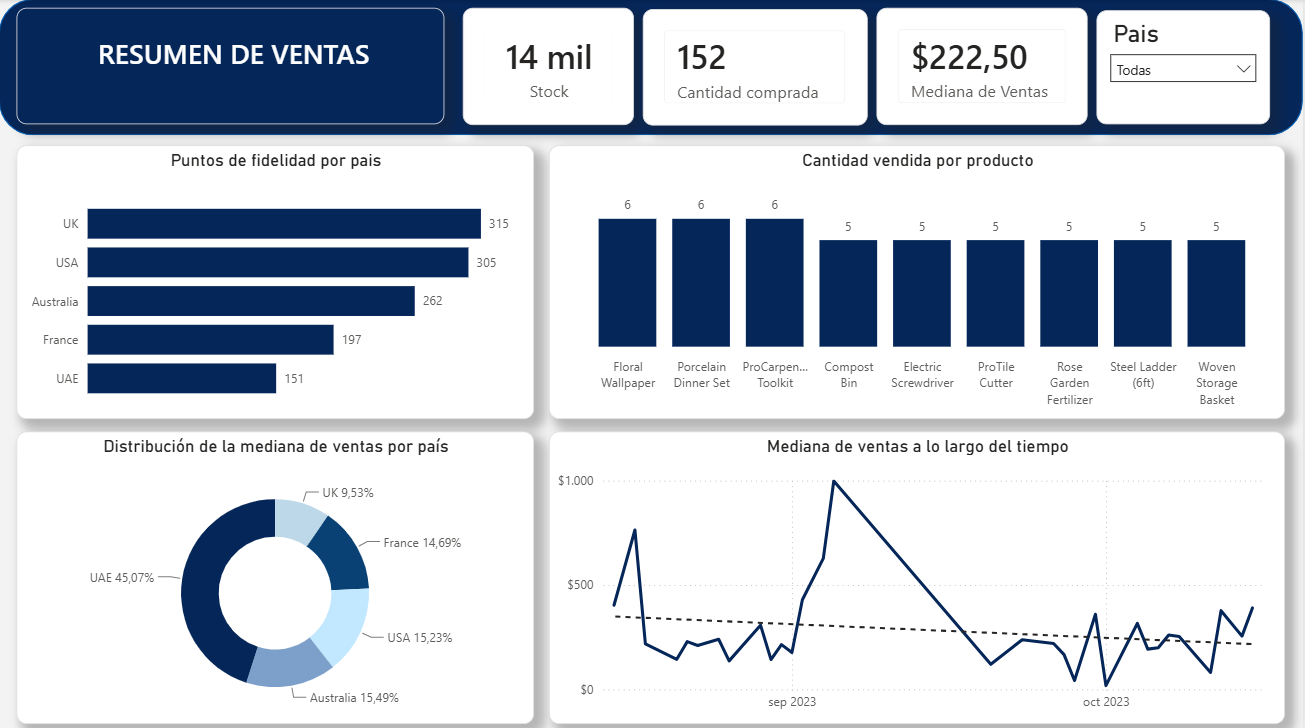

What the dashboard file says about the page in this screenshot:
{"tool":"powerbi","page":{"name":"Resumen de ventas","canvas":[1280,720],"ordinal":0},"visuals":[{"type":"clusteredBarChart","title":"Puntos de fidelidad por pais","fields":{"Category":["Sales in USD.Country Name"],"Y":["Sum(Sales in USD. Loyalty Points)"]},"box":[17.2,143.6,508,268.7],"z":2000},{"type":"clusteredColumnChart","title":"Cantidad vendida por producto","fields":{"Category":["Sales in USD.Product Name"],"Y":["Sum(Sales in USD.Quantity Purchased)"]},"box":[539.9,143.6,722.7,268.7],"z":3000},{"type":"donutChart","title":"Distribución de la mediana de ventas por país","fields":{"Category":["Sales in USD.Country Name"],"Y":["Sales in USD.Mediana de Ventas"]},"box":[17.2,424.5,508,287.1],"z":4000},{"type":"lineChart","title":"Mediana de ventas a lo largo del tiempo","fields":{"Category":["Calendar.Date"],"Y":["Sales in USD.Mediana de Ventas"]},"box":[539.9,424.5,722.7,287.1],"z":5000},{"type":"shape","box":[0,0,1279.8,133.7],"z":5500},{"type":"cardVisual","fields":{"Data":["Sum(Sales in USD. Stock  )"]},"box":[455.2,8.6,168.1,115.3],"z":6000},{"type":"cardVisual","fields":{"Data":["Sum(Sales in USD.Quantity Purchased)"]},"box":[631.9,9.8,220.9,114.1],"z":7000},{"type":"cardVisual","fields":{"Data":["Sales in USD.Mediana de Ventas"]},"box":[861.4,8.6,207.4,115.3],"z":8000},{"type":"slicer","fields":{"Values":["Sales in USD.Country Name"]},"box":[1077.3,11,170.6,111.7],"z":9000},{"type":"textbox","box":[17.2,8.6,419.6,114.1],"z":10000}]}

Visuals, with their boxes in screenshot pixels (x1, y1, x2, y2), scaled from the page's 1280x720 canvas onto the 1305x728 screenshot:
"Puntos de fidelidad por pais" clusteredBarChart: x1=18 y1=145 x2=535 y2=417
"Cantidad vendida por producto" clusteredColumnChart: x1=550 y1=145 x2=1287 y2=417
"Distribución de la mediana de ventas por país" donutChart: x1=18 y1=429 x2=535 y2=720
"Mediana de ventas a lo largo del tiempo" lineChart: x1=550 y1=429 x2=1287 y2=720
shape: x1=0 y1=0 x2=1304 y2=135
cardVisual - Sum(Sales in USD. Stock  ): x1=464 y1=9 x2=635 y2=125
cardVisual - Sum(Sales in USD.Quantity Purchased): x1=644 y1=10 x2=869 y2=125
cardVisual - Sales in USD.Mediana de Ventas: x1=878 y1=9 x2=1090 y2=125
slicer - Sales in USD.Country Name: x1=1098 y1=11 x2=1272 y2=124
textbox: x1=18 y1=9 x2=445 y2=124
